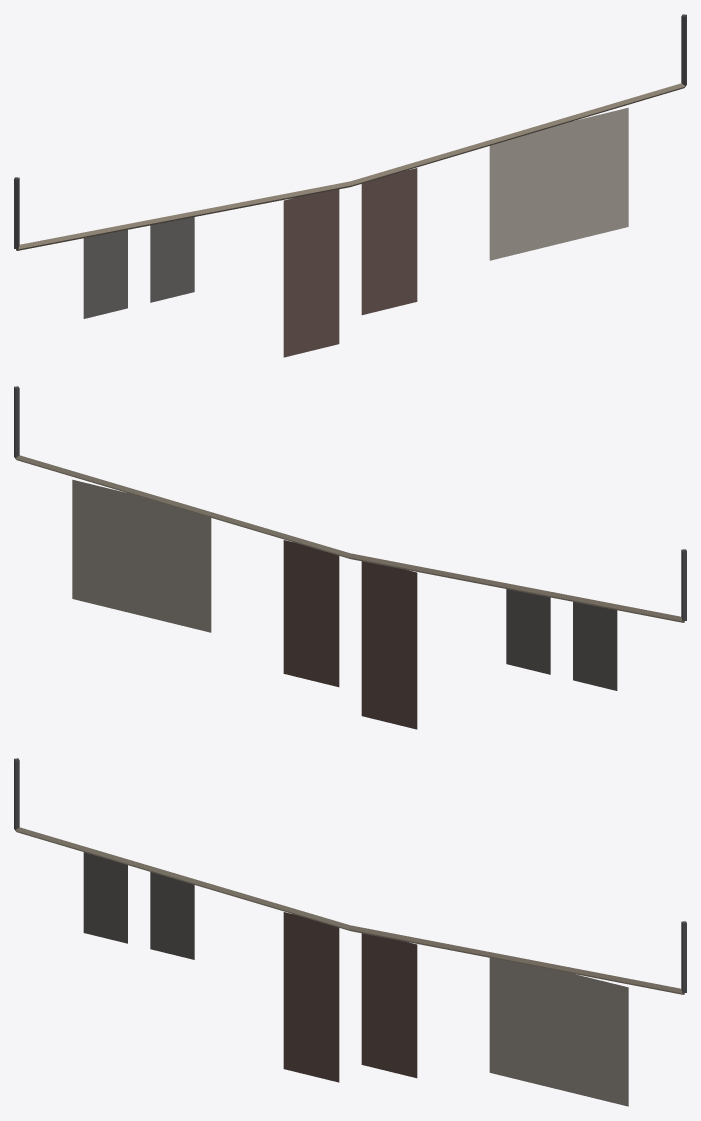
The model's file is drying_line.glb.
The picture shows the model from 3 angles, top to bottom: view 1: azimuth 30°, elevation 25°; view 2: azimuth 150°, elevation 25°; view 3: azimuth 330°, elevation 25°; orthographic projection.
Parts seen in each view (by area): view 1: drying_line; view 2: drying_line; view 3: drying_line.
Boxes of the visible parts, box(x1,y1,x2,y2) form: drying_line: box(14, 14, 686, 357); drying_line: box(14, 386, 686, 729); drying_line: box(14, 758, 686, 1106).
Bounding box in the file's own units: 1.21 × 0.42 × 0.01.
